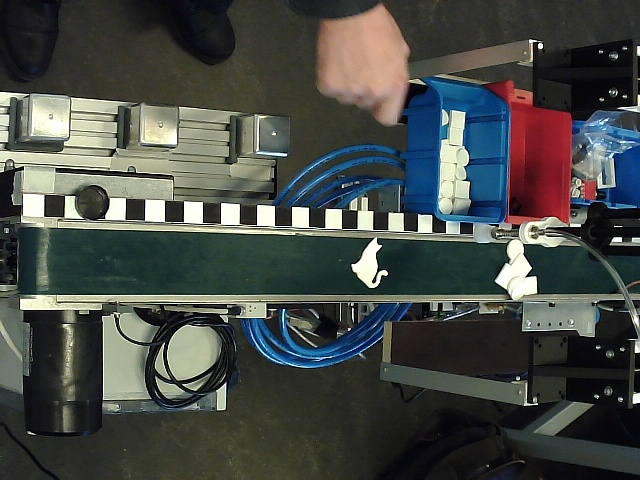cat: (352, 237, 388, 288)
